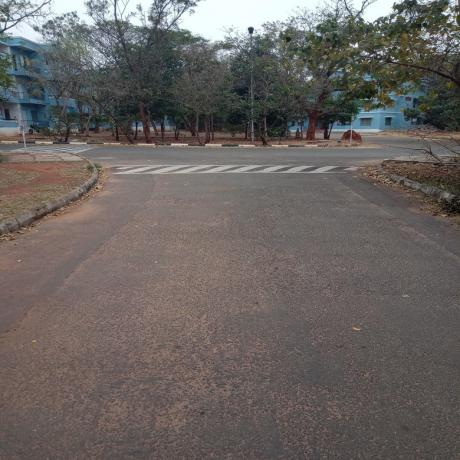Speed Bump: (103, 165, 367, 174)
